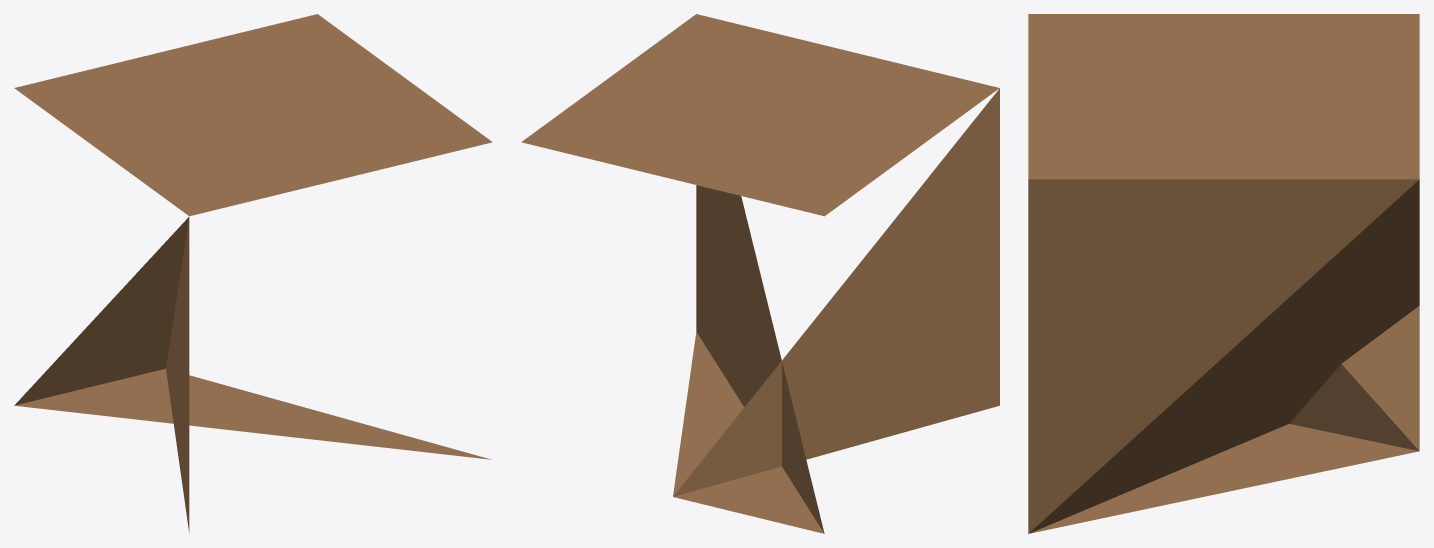
Rendered from mockAsset.glb.
The picture shows the model from 3 angles, left to right: view 1: azimuth 30°, elevation 25°; view 2: azimuth 150°, elevation 25°; view 3: azimuth 270°, elevation 25°; orthographic projection. The views are drawn at different scales.
Parts seen in each view (by area): view 1: MockCube; view 2: MockCube; view 3: MockCube.
Part boxes in pixels (box(x1,y1,x2,y2)): MockCube: box(14, 14, 492, 532); MockCube: box(521, 14, 999, 533); MockCube: box(1028, 14, 1419, 533).
Size of the model in its own units: 1 by 1 by 1.
